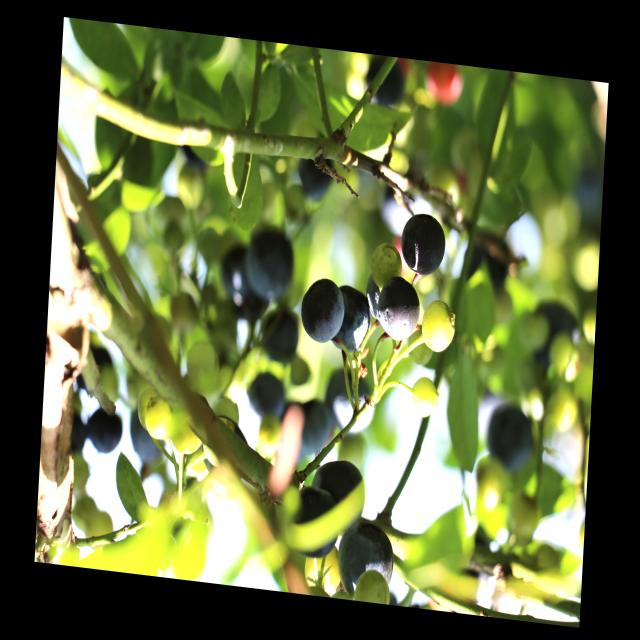blueberry: (336, 518, 398, 596), (310, 455, 366, 534), (287, 483, 341, 563), (246, 228, 299, 304), (483, 399, 537, 472), (325, 364, 377, 438), (398, 209, 450, 281), (300, 270, 347, 349), (330, 282, 375, 358), (375, 276, 421, 346), (126, 406, 174, 472), (257, 309, 305, 372), (243, 365, 288, 426), (362, 56, 406, 114), (292, 156, 338, 210), (295, 396, 334, 456), (84, 405, 125, 459), (73, 346, 112, 398), (364, 270, 387, 324)
blueberry-unripe: (417, 294, 459, 355), (170, 400, 204, 459), (144, 394, 172, 439), (410, 378, 438, 419)
